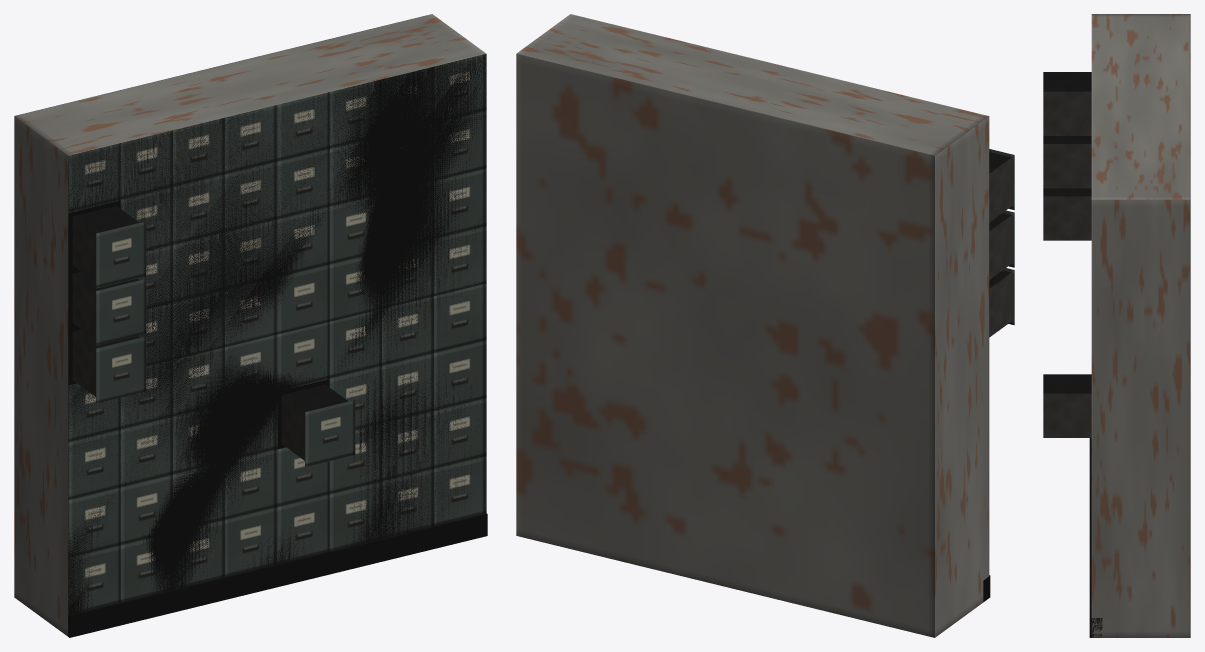
File: drawers.fbx
3 renders of one model, left to right at view 1: azimuth 30°, elevation 25°; view 2: azimuth 150°, elevation 25°; view 3: azimuth 270°, elevation 25°, orthographic. The views are drawn at different scales.
Visible parts, largest first — view 1: drawers, col_body; view 2: drawers; view 3: drawers.
Part boxes in pixels (box(x1,y1,x2,y2)): drawers: box(14, 14, 487, 637); col_body: box(68, 54, 486, 614); drawers: box(516, 14, 1014, 637); drawers: box(1043, 14, 1190, 637).
Bounding box in the file's own units: 2 × 2.2 × 0.67.
1 material, 1 textured.
